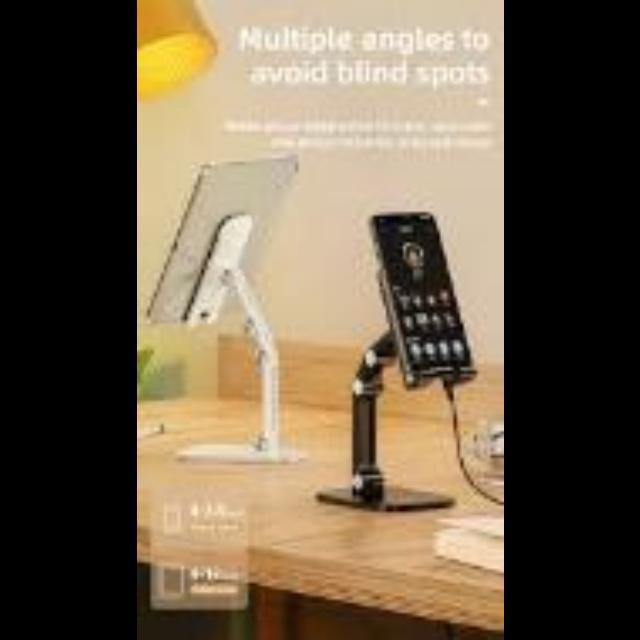PhoneUse: (372, 214, 472, 372)
